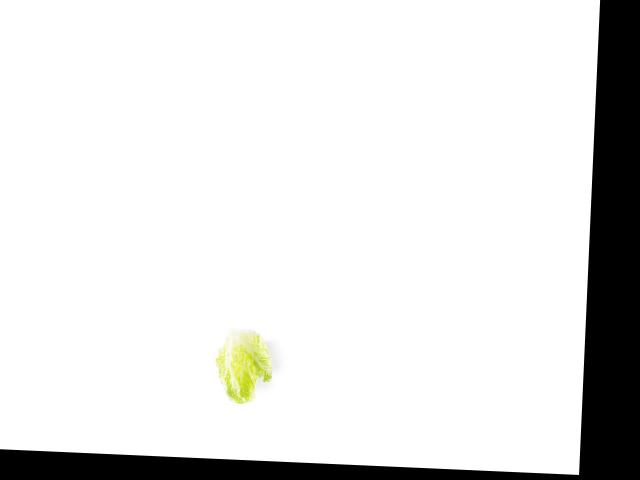lettuce: (211, 320, 275, 409)
